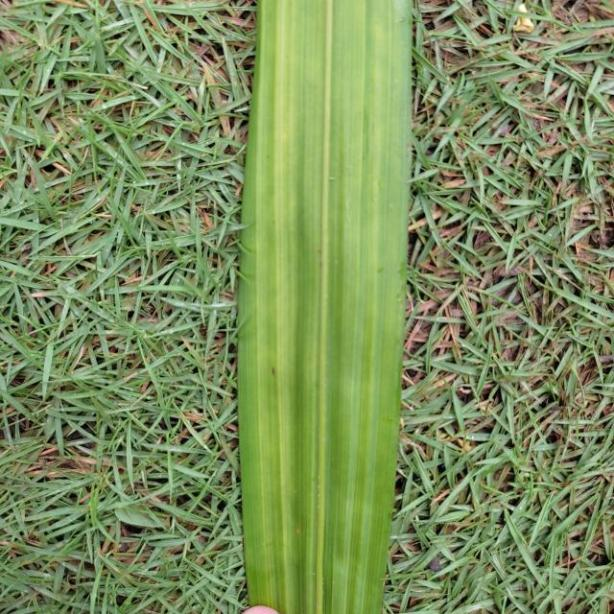nitrogen: (236, 0, 416, 614)
